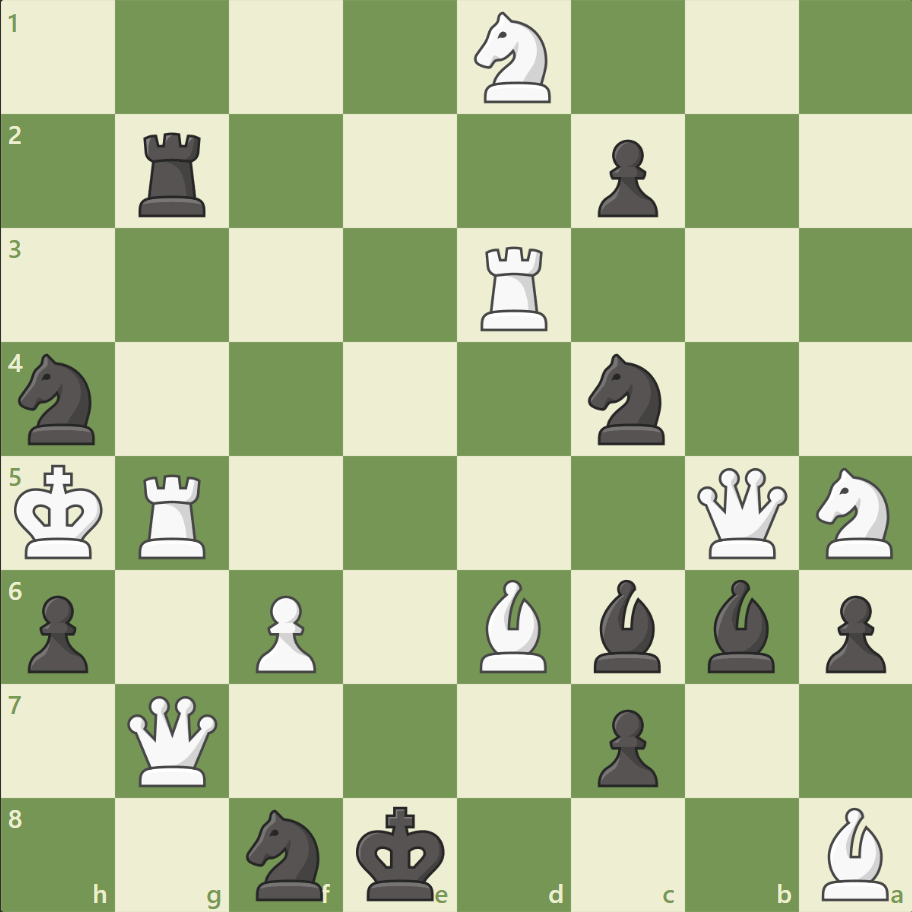B: (812, 801, 896, 904), (471, 574, 555, 676)
K: (11, 458, 111, 566)
N: (806, 461, 903, 564), (465, 7, 562, 110)
P: (247, 586, 322, 677)
Q: (124, 690, 223, 789), (691, 463, 790, 562)
R: (473, 239, 556, 336), (133, 466, 215, 563)
b: (698, 574, 782, 676), (585, 574, 669, 676)
k: (351, 798, 451, 906)
n: (238, 802, 335, 904), (579, 348, 676, 450), (11, 348, 108, 450)
p: (20, 586, 95, 677), (588, 700, 662, 791), (815, 586, 889, 677), (588, 132, 662, 223)
r: (133, 125, 215, 222)
